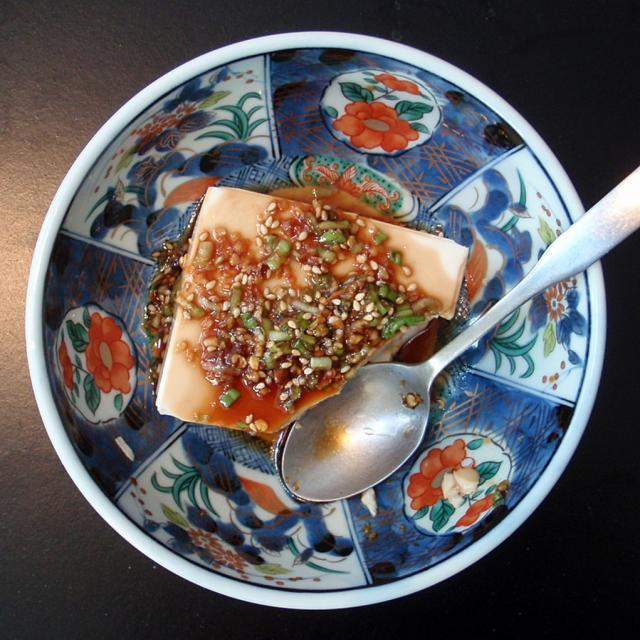non-organic waste: (24, 28, 604, 621)
